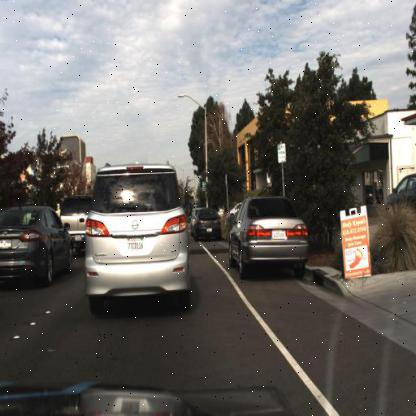car: (82, 159, 196, 320), (225, 192, 322, 288), (0, 197, 74, 291), (53, 181, 89, 266), (382, 167, 416, 214), (190, 205, 223, 247)
